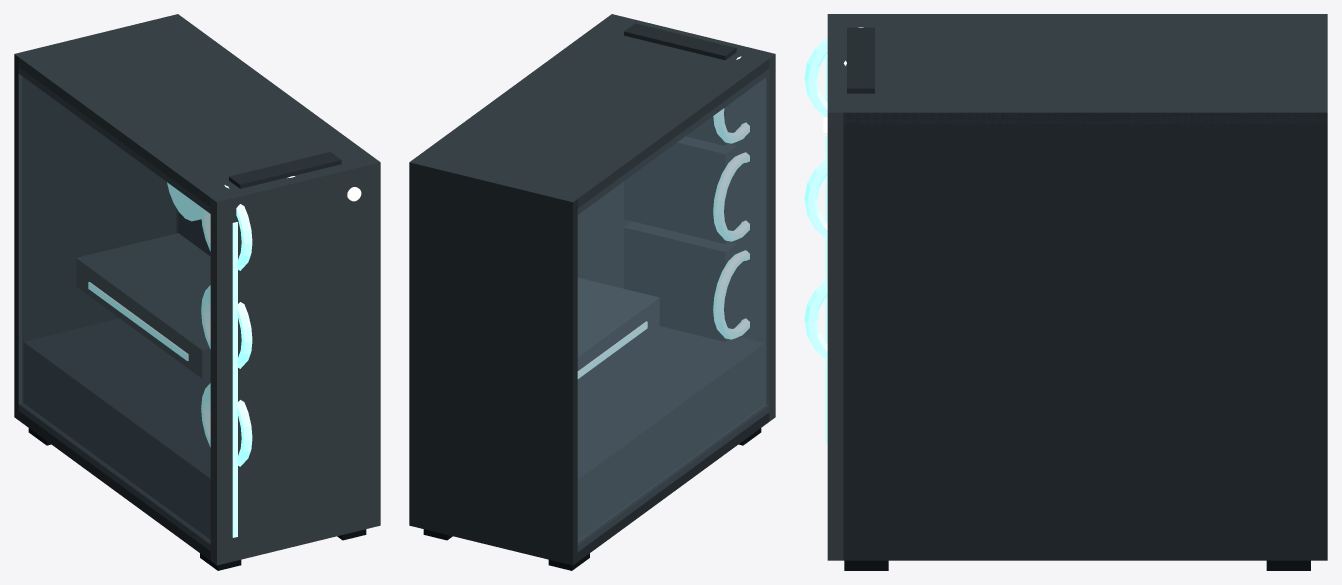
The picture shows the model from 3 angles, left to right: view 1: azimuth 30°, elevation 25°; view 2: azimuth 150°, elevation 25°; view 3: azimuth 270°, elevation 25°; orthographic projection. The views are drawn at different scales.
Parts seen in each view (by area): view 1: glass:#83A1B5:0.28, #3D474C, #252E33, #323E44, glow:#80DDE0, #070F14; view 2: #252E33, glass:#83A1B5:0.28, #323E44, #3D474C, glow:#80DDE0, #070F14; view 3: #252E33, #323E44, #3D474C, glow:#80DDE0, #070F14.
Boxes of the visible parts, x1,y1,x2,y2 form: glass:#83A1B5:0.28: [18, 68, 210, 550]; #3D474C: [210, 162, 380, 565]; #252E33: [14, 54, 341, 560]; #323E44: [15, 14, 379, 378]; glow:#80DDE0: [88, 176, 295, 537]; #070F14: [28, 212, 366, 570]; #252E33: [409, 23, 769, 565]; glass:#83A1B5:0.28: [577, 69, 768, 551]; #323E44: [410, 14, 774, 385]; #3D474C: [612, 54, 775, 421]; glow:#80DDE0: [577, 56, 749, 378]; #070F14: [423, 428, 761, 570]; #252E33: [843, 27, 1327, 560]; #323E44: [827, 14, 1327, 124]; #3D474C: [827, 112, 843, 560]; glow:#80DDE0: [804, 27, 863, 443]; #070F14: [844, 560, 1310, 570].
Bounding box in the file's own units: 0.21 × 0.465 × 0.471.
